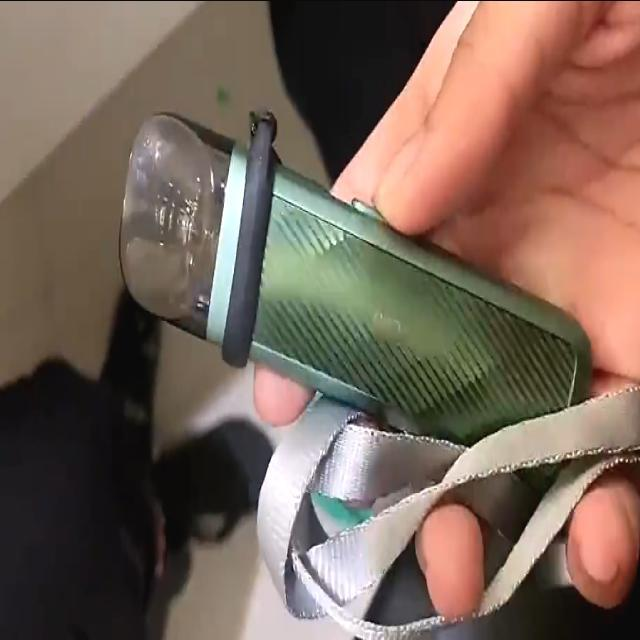Hazard: (115, 104, 593, 484)
